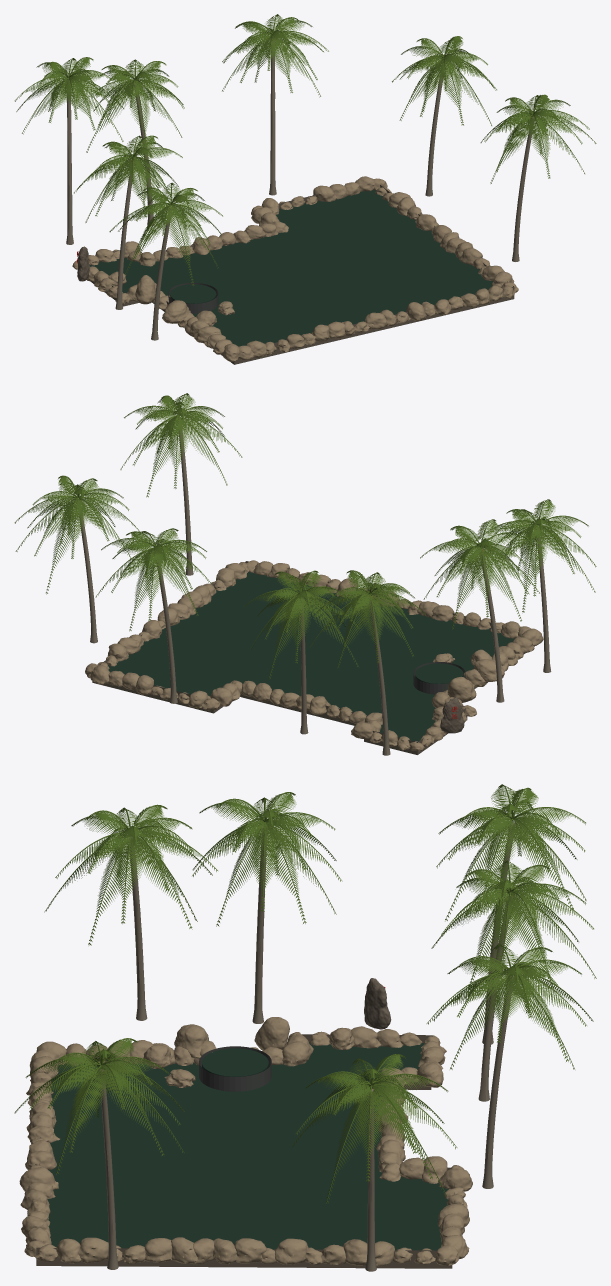
File: yanchi.glb
The picture shows the model from 3 angles, top to bottom: view 1: azimuth 30°, elevation 25°; view 2: azimuth 150°, elevation 25°; view 3: azimuth 270°, elevation 25°; orthographic projection. The views are drawn at different scales.
Parts seen in each view (by area): view 1: yanchi.water, yanchi.palms, yanchi.edging, yanchi.rockery, yanchi.basin; view 2: yanchi.palms, yanchi.water, yanchi.edging, yanchi.rockery, yanchi.basin, yanchi.stone; view 3: yanchi.water, yanchi.palms, yanchi.edging, yanchi.rockery, yanchi.basin, yanchi.stone.
Part boxes in pixels (x1,y1,x2,y2): yanchi.water: [89, 190, 493, 346]; yanchi.palms: [14, 14, 596, 340]; yanchi.edging: [72, 176, 518, 361]; yanchi.rockery: [108, 271, 234, 326]; yanchi.basin: [90, 185, 514, 364]; yanchi.palms: [14, 393, 596, 755]; yanchi.water: [108, 572, 514, 741]; yanchi.edging: [85, 560, 543, 751]; yanchi.rockery: [413, 649, 504, 721]; yanchi.basin: [92, 561, 534, 754]; yanchi.stone: [440, 697, 464, 733]; yanchi.water: [47, 1042, 448, 1250]; yanchi.palms: [14, 784, 596, 1271]; yanchi.edging: [19, 1026, 472, 1266]; yanchi.rockery: [143, 1017, 354, 1091]; yanchi.basin: [36, 1034, 454, 1268]; yanchi.stone: [364, 978, 391, 1029].
Size of the model in its own units: 40.07 by 15.72 by 30.46.
